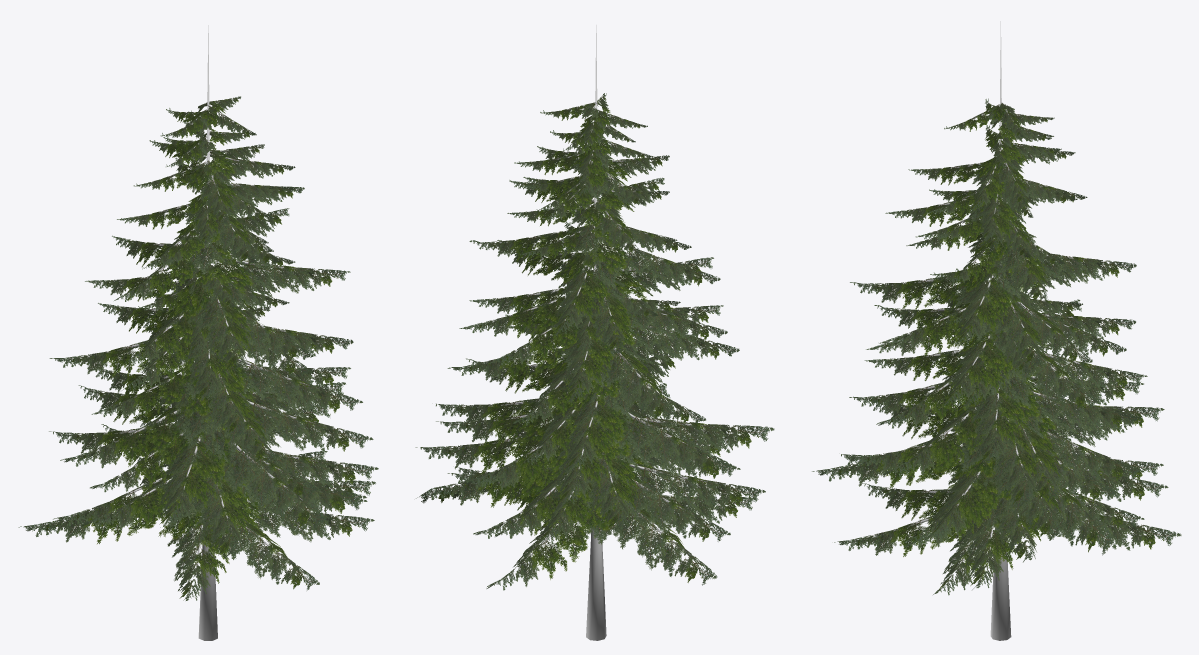
Rendered from Tree2.016.fbx.
The picture shows the model from 3 angles, left to right: view 1: azimuth 30°, elevation 25°; view 2: azimuth 150°, elevation 25°; view 3: azimuth 270°, elevation 25°; orthographic projection.
Parts seen in each view (by area): view 1: Tree2.016; view 2: Tree2.016; view 3: Tree2.016.
Boxes of the visible parts, x1,y1,x2,y2 form: Tree2.016: (18, 25, 378, 640); Tree2.016: (415, 25, 774, 640); Tree2.016: (812, 21, 1181, 640).
Size of the model in its own units: 1.56 by 2.91 by 1.6.
